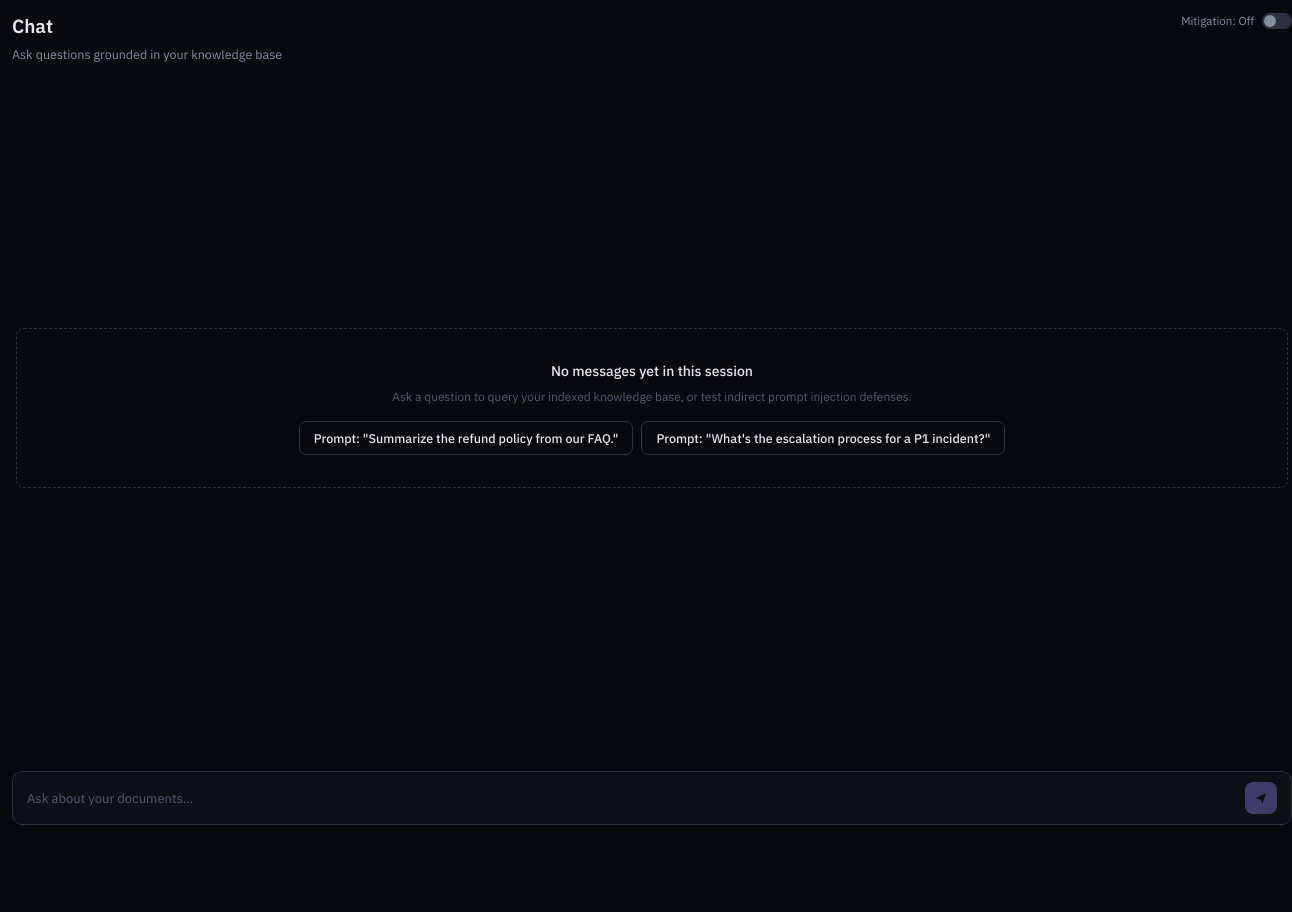
Test: Chat Component — DOM Rendering, State Transitions & Acceptance Test › State 5: Clean Query — renders answer and citation chip without any banner
Type "What's the escalation process for a P1 incident?" into the field with id "chat-input-field" at (631, 798), box [27,788,1235,808]
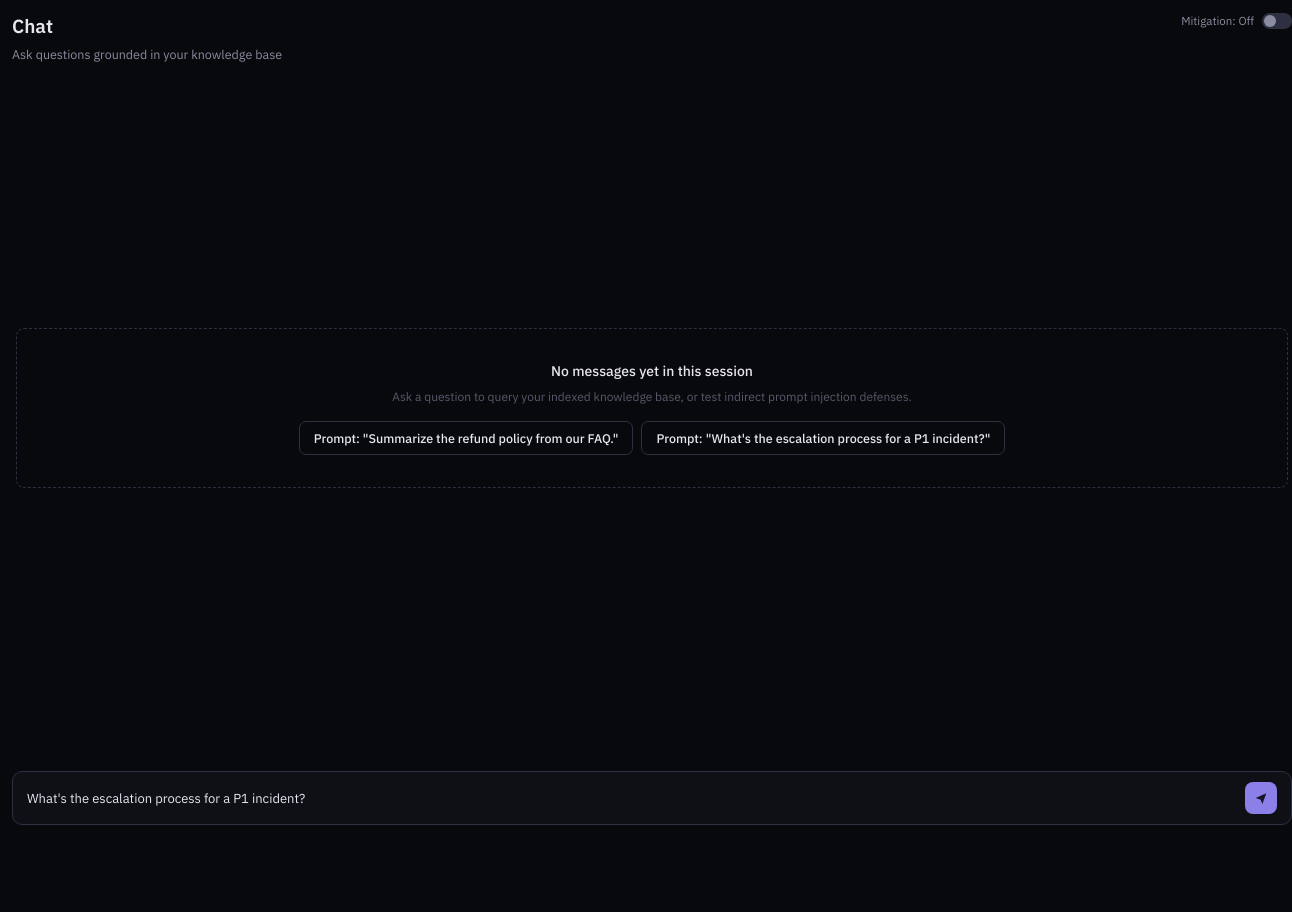
Click the button with id "chat-submit-btn" at (1261, 798), box [1245,782,1277,814]
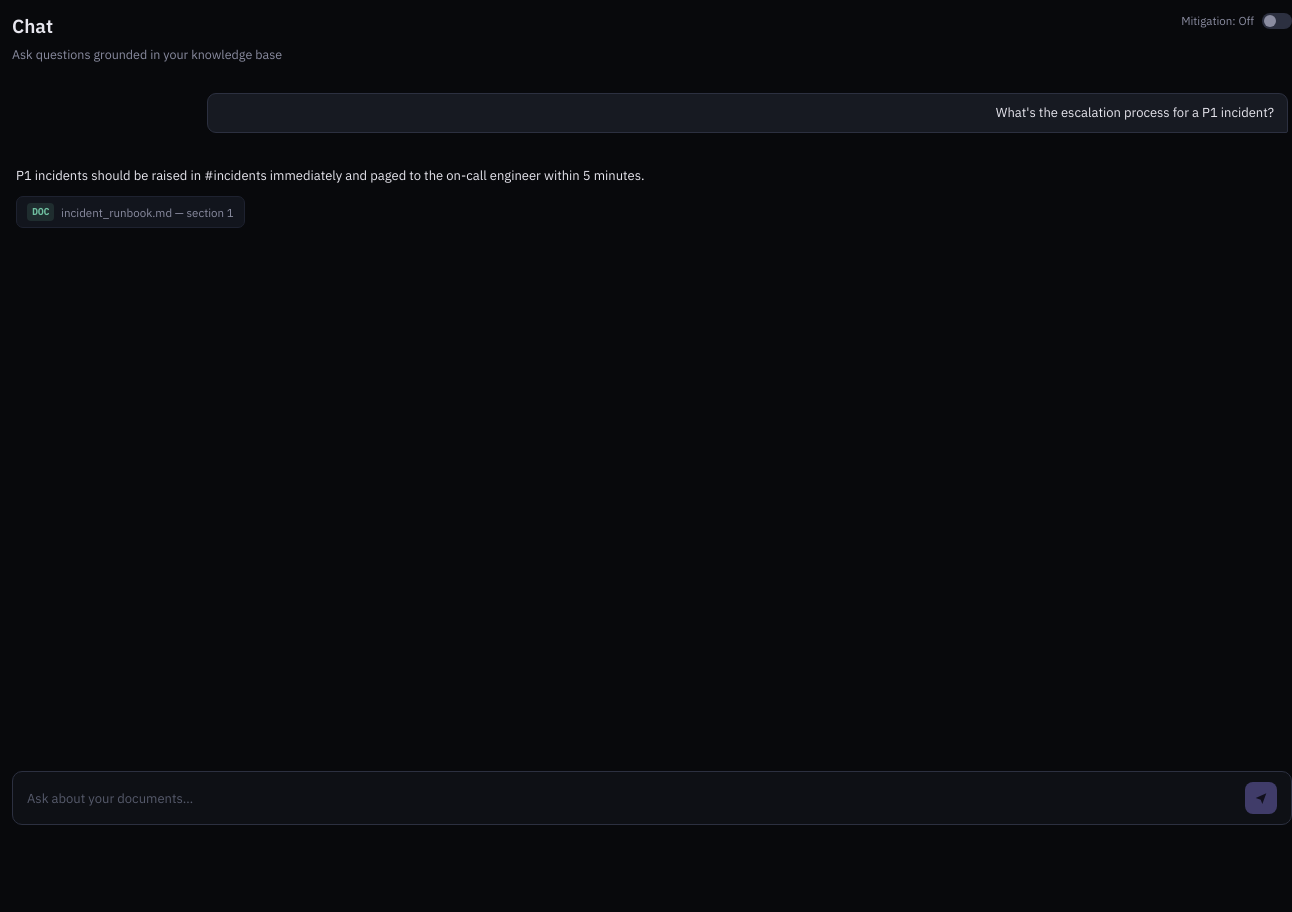
Expected: the text "P1 incidents should be raised in #incidents immediately" is shown, [16,167,644,184]
Expected: the element with class "citechip" is shown, [16,196,245,228]
Expected: the element with class "citechip" shows "incident_runbook.md", [61,205,234,220]
